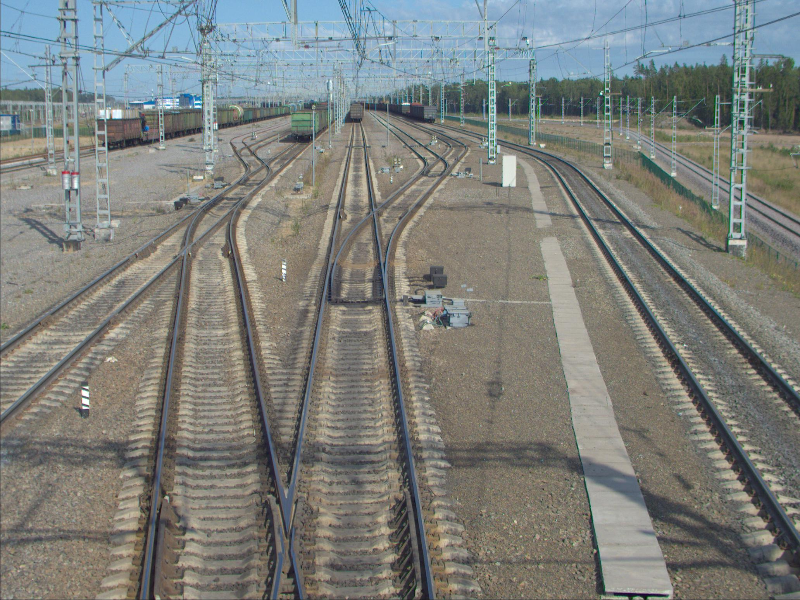left: (320, 259, 394, 300)
